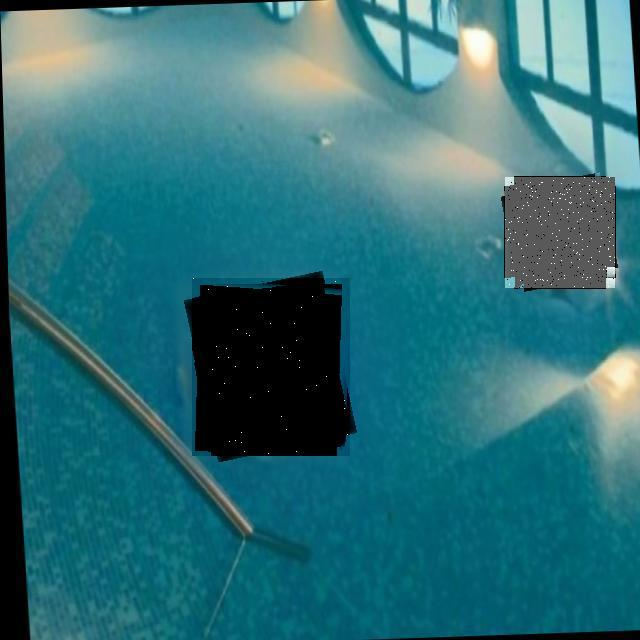swimming: (192, 278, 350, 456), (505, 177, 615, 288)
